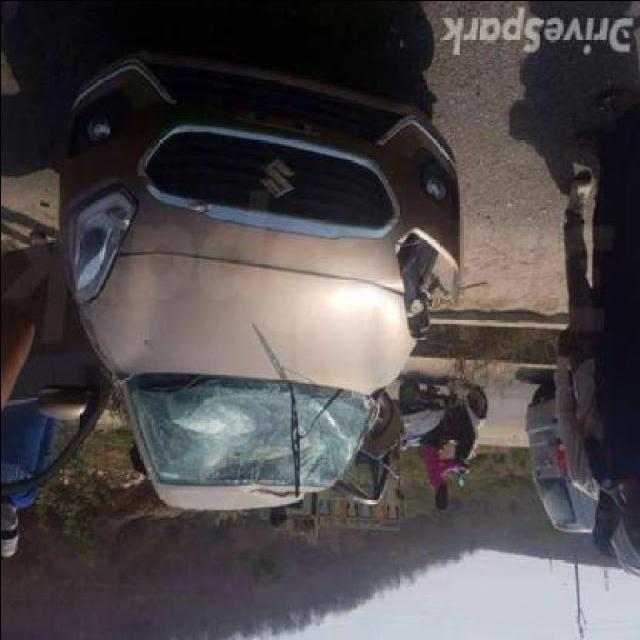Front-Windscreen-Damage: (125, 361, 394, 495)
